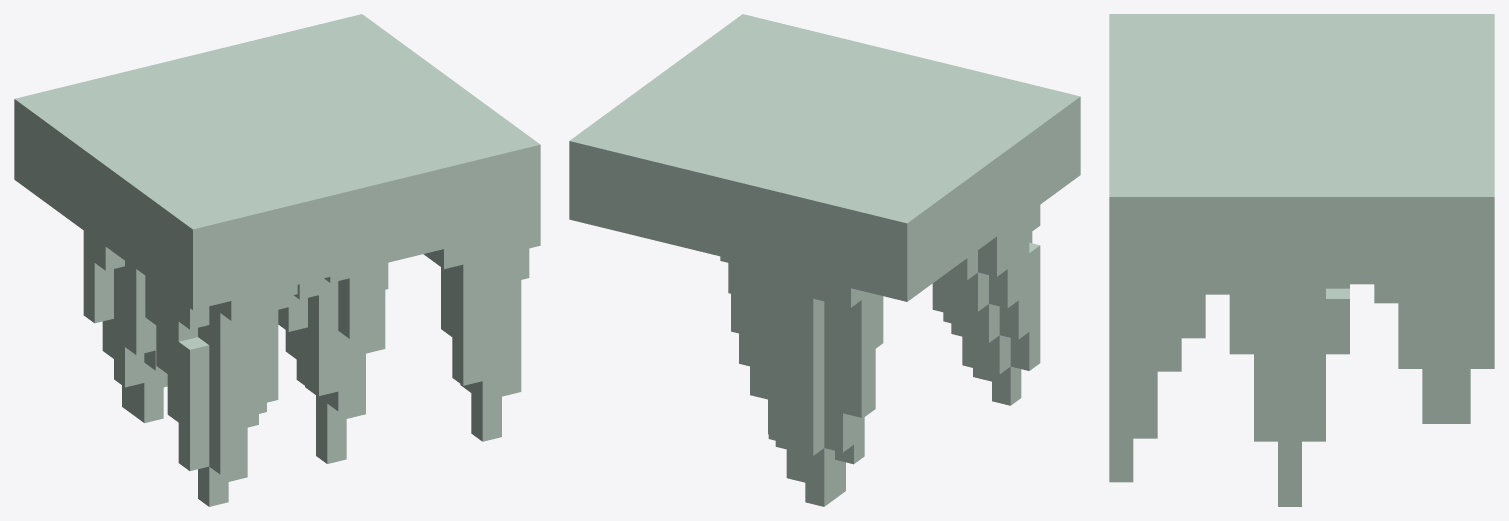
Rendered from Floors-1.obj.
3 views of the same model, side by side, from view 1: azimuth 30°, elevation 25°; view 2: azimuth 150°, elevation 25°; view 3: azimuth 270°, elevation 25° (orthographic). The views are drawn at different scales.
Size of the model in its own units: 1.8 by 1.7 by 1.6.
